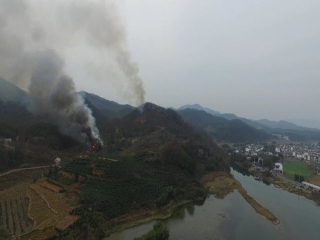smoke: (4, 16, 149, 155)
